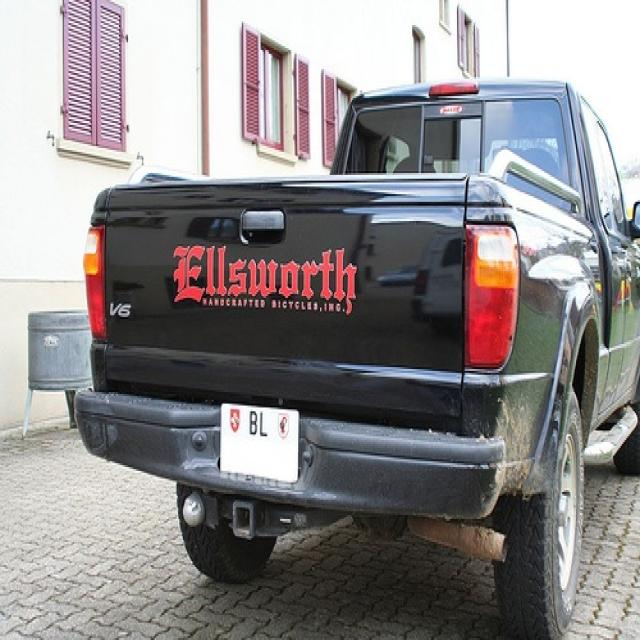car: (79, 77, 636, 632)
